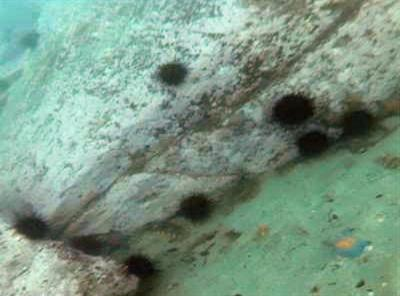urchin: (272, 92, 317, 124), (14, 213, 50, 241), (343, 107, 375, 138), (180, 193, 214, 222), (295, 128, 329, 156), (123, 251, 156, 278), (157, 60, 191, 85), (71, 232, 103, 257)
